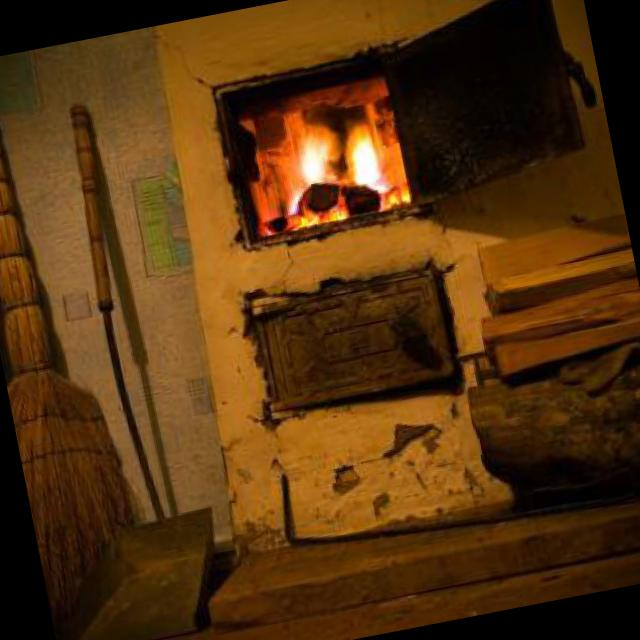fire: (249, 95, 405, 251)
